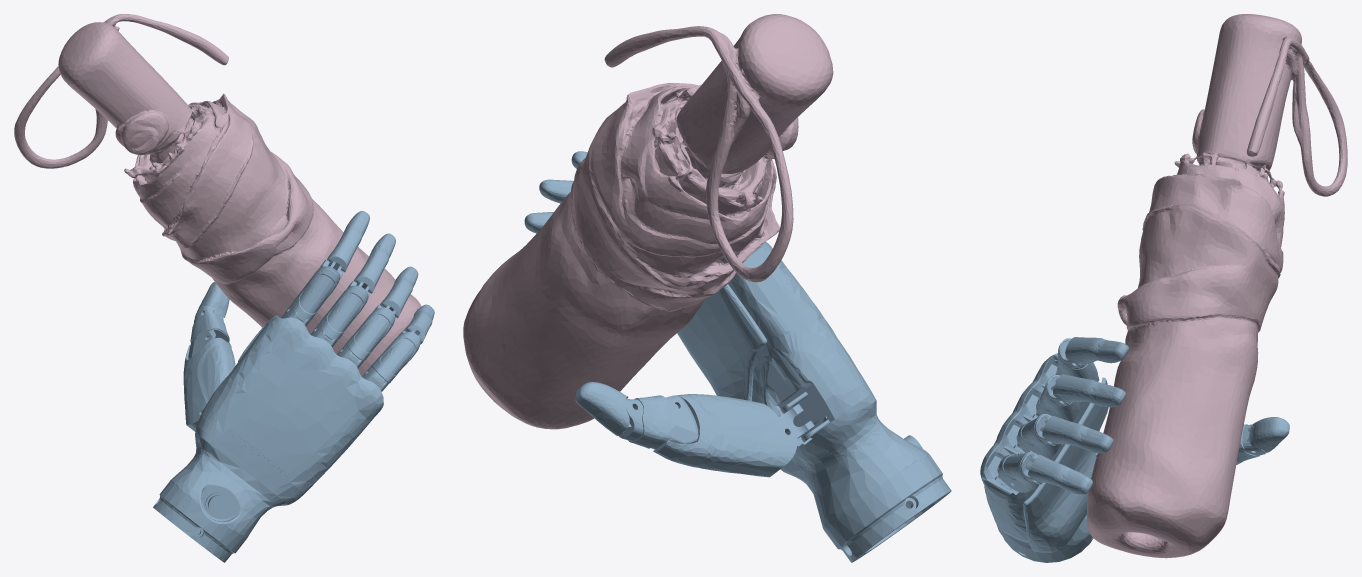
3 renders of one model, left to right at view 1: azimuth 30°, elevation 25°; view 2: azimuth 150°, elevation 25°; view 3: azimuth 270°, elevation 25°, orthographic. The views are drawn at different scales.
Visible parts, largest first — view 1: world, obj_mesh_grasp_15.obj; view 2: obj_mesh_grasp_15.obj, world; view 3: obj_mesh_grasp_15.obj, world.
Boxes of the visible parts, left/top/right/bottom form: world: left=153, top=211, right=434, bottom=562; obj_mesh_grasp_15.obj: left=14, top=14, right=421, bottom=376; obj_mesh_grasp_15.obj: left=463, top=14, right=833, bottom=429; world: left=524, top=151, right=951, bottom=562; obj_mesh_grasp_15.obj: left=1087, top=14, right=1347, bottom=558; world: left=980, top=337, right=1289, bottom=562.
Size of the model in its own units: 0.2081 by 0.2949 by 0.1837.
